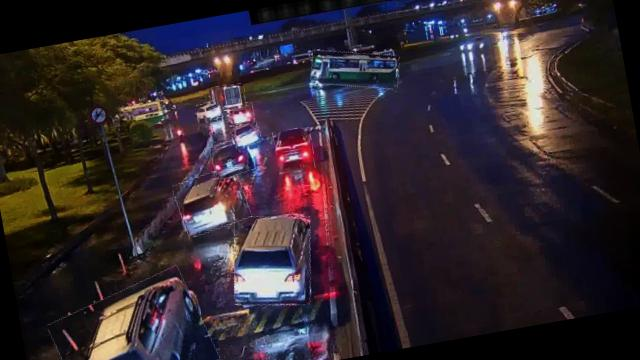Bus: (308, 40, 403, 98)
Car: (47, 269, 218, 360), (224, 207, 321, 314), (172, 166, 252, 236), (272, 126, 317, 174), (209, 136, 255, 180), (229, 118, 262, 148), (222, 100, 255, 126), (194, 98, 226, 122)
Truck: (210, 81, 247, 112)
